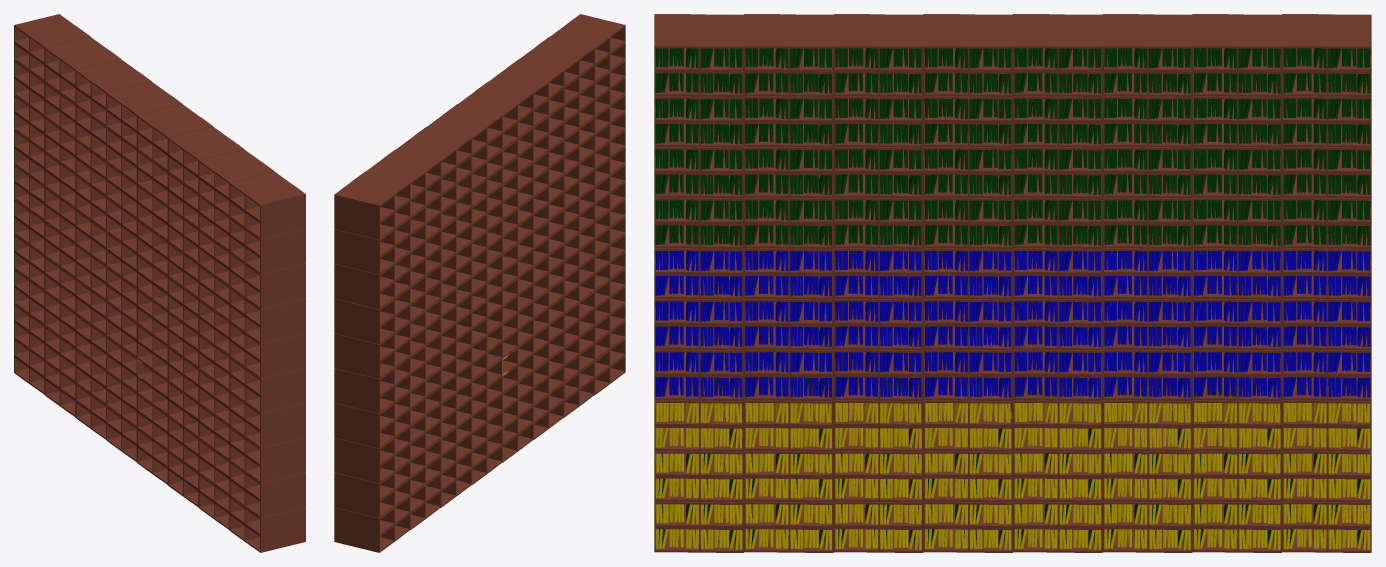
File: lib_backshelf.fbx
3 views of the same model, side by side, from view 1: azimuth 30°, elevation 25°; view 2: azimuth 150°, elevation 25°; view 3: azimuth 270°, elevation 25° (orthographic). The views are drawn at different scales.
Parts seen in each view (by area): view 1: LibraryBookshelf_BG.002; view 2: LibraryBookshelf_BG.002; view 3: LibraryBookshelf_BG.002.
Part boxes in pixels (x1,y1,x2,y2): LibraryBookshelf_BG.002: (14,14,305,552); LibraryBookshelf_BG.002: (334,14,625,552); LibraryBookshelf_BG.002: (654,14,1371,552).
Bounding box in the file's own units: 511 × 3745 × 4805.
